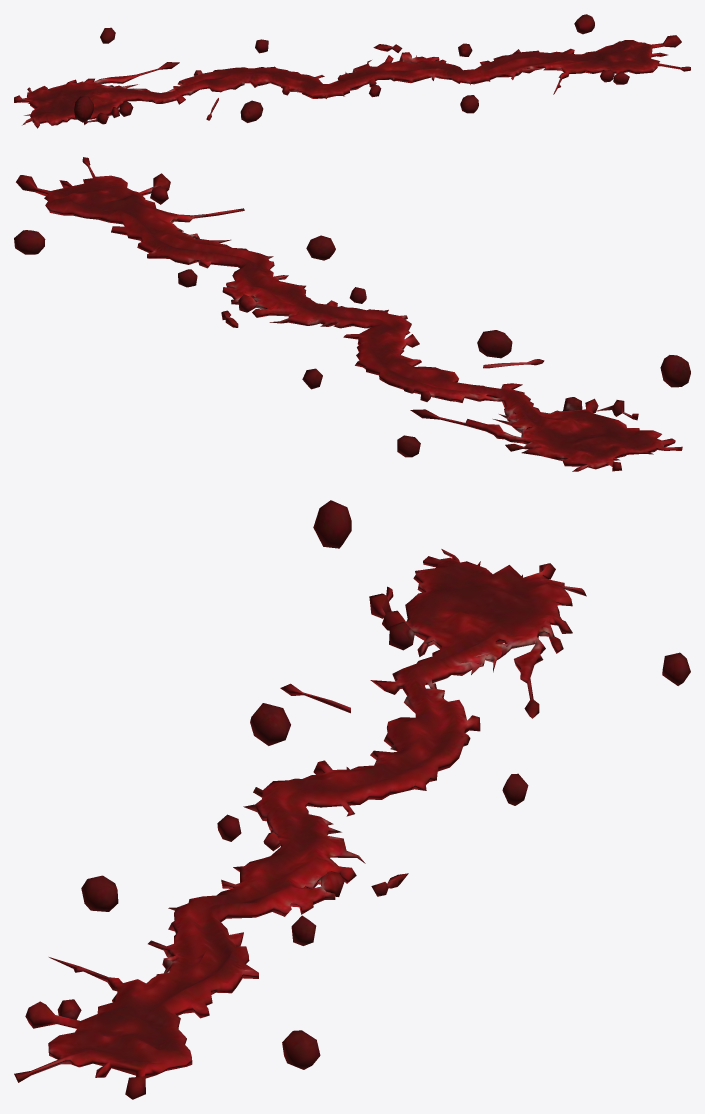
The model's file is blood_smear.glb.
The picture shows the model from 3 angles, top to bottom: view 1: azimuth 30°, elevation 25°; view 2: azimuth 150°, elevation 25°; view 3: azimuth 270°, elevation 25°; orthographic projection. The views are drawn at different scales.
Parts seen in each view (by area): view 1: frame; view 2: frame; view 3: frame.
Boxes of the visible parts, x1,y1,x2,y2 form: frame: (14, 14, 690, 128); frame: (14, 157, 690, 471); frame: (14, 500, 690, 1099).
Bounding box in the file's own units: 1 × 0.0847 × 0.5205.
1 material, 1 textured.
